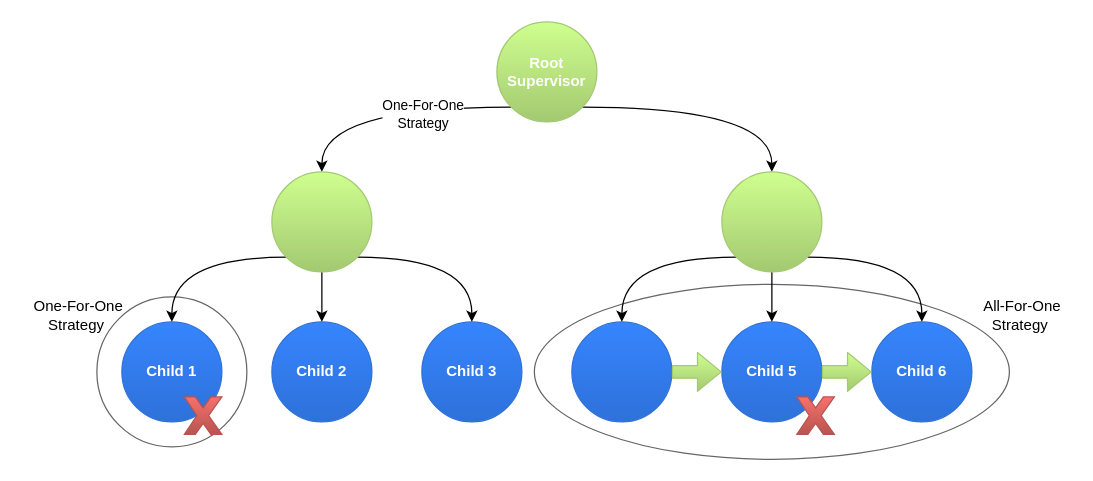
Image size: 1093x481. Some labels were removed from this diagram. Each missing label, with the centre of its shape:
"Child 4" goes at pixel 621 371.
"Supervisor 1" goes at pixel 321 221.
"Supervisor 2" goes at pixel 771 221.
